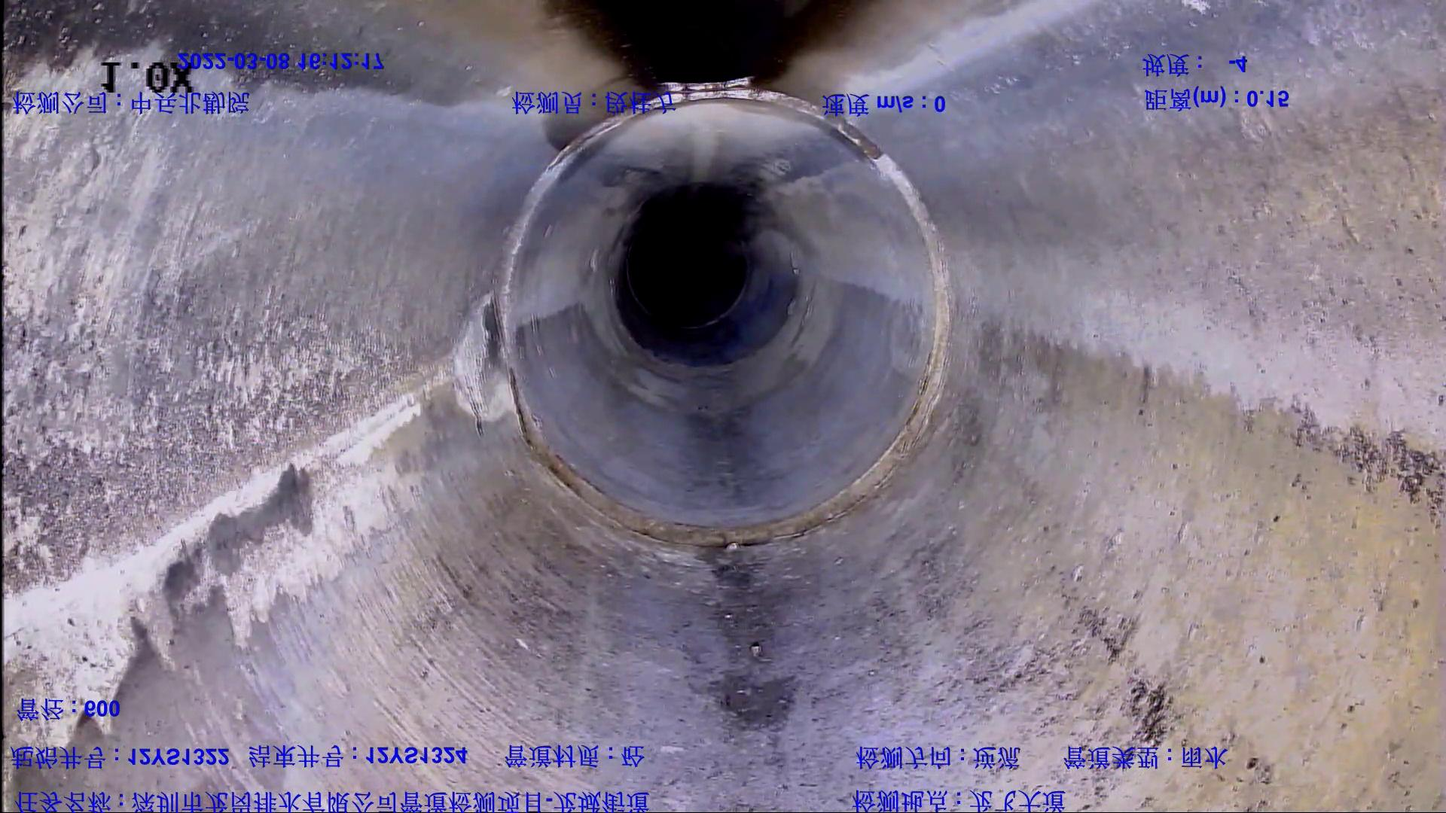CKTJ: (487, 84, 952, 550)
